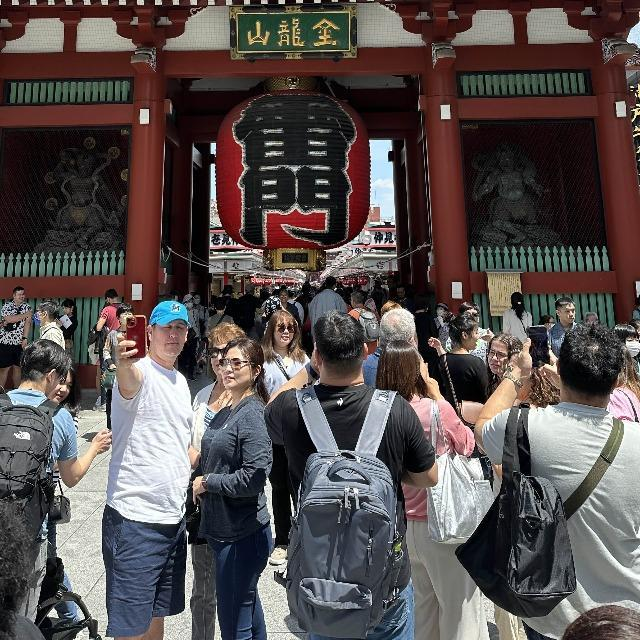NoHelmet: (312, 310, 370, 385), (219, 339, 266, 392)
NoVest: (110, 366, 196, 520)
